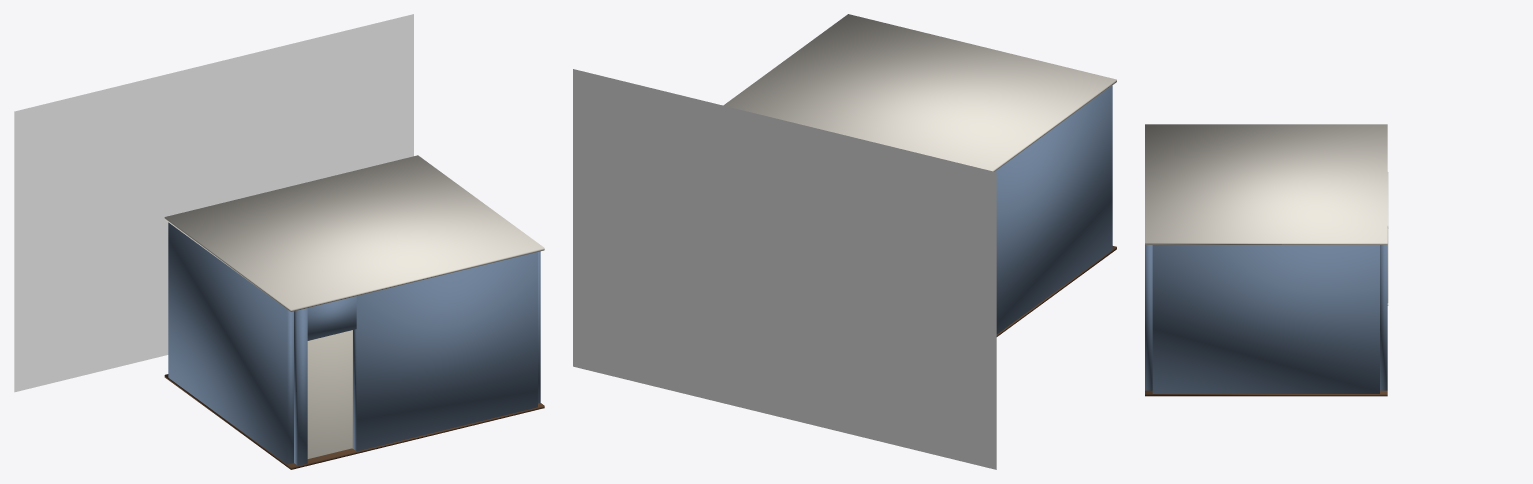
Rendered from room.glb.
The picture shows the model from 3 angles, left to right: view 1: azimuth 30°, elevation 25°; view 2: azimuth 150°, elevation 25°; view 3: azimuth 270°, elevation 25°; orthographic projection. The views are drawn at different scales.
Visible parts, largest first — view 1: Room, WindowView; view 2: WindowView, Room; view 3: Room.
Part boxes in pixels (x1,y1,x2,y2): Room: [164, 155, 544, 469]; WindowView: [14, 14, 413, 392]; WindowView: [573, 69, 996, 469]; Room: [723, 14, 1116, 336]; Room: [1145, 124, 1388, 396].
Size of the model in its own units: 7 by 4.7 by 5.92.
Materials: 39 (6 with a texture image).
